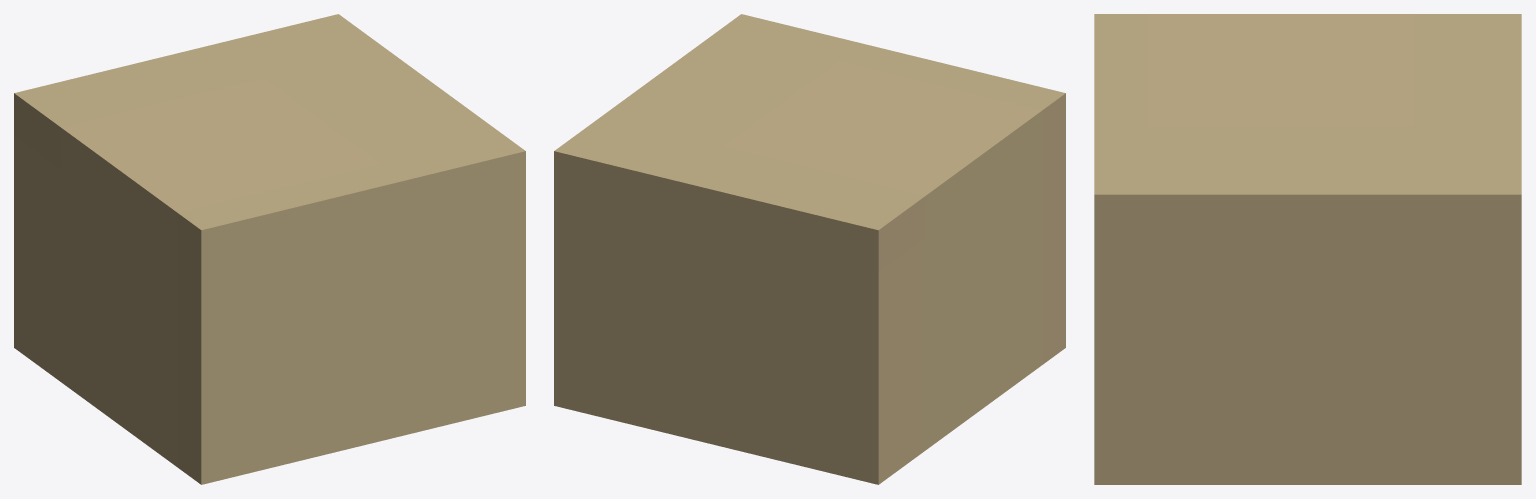
Rendered from arenisca_04.glb.
3 renders of one model, left to right at view 1: azimuth 30°, elevation 25°; view 2: azimuth 150°, elevation 25°; view 3: azimuth 270°, elevation 25°, orthographic. The views are drawn at different scales.
Parts seen in each view (by area): view 1: arenisca_04; view 2: arenisca_04; view 3: arenisca_04.
Part boxes in pixels (x1=…): arenisca_04: x1=14, y1=14, x2=525, y2=484; arenisca_04: x1=554, y1=14, x2=1065, y2=484; arenisca_04: x1=1094, y1=14, x2=1521, y2=484.
Size of the model in its own units: 0.8 by 0.6 by 0.8.
